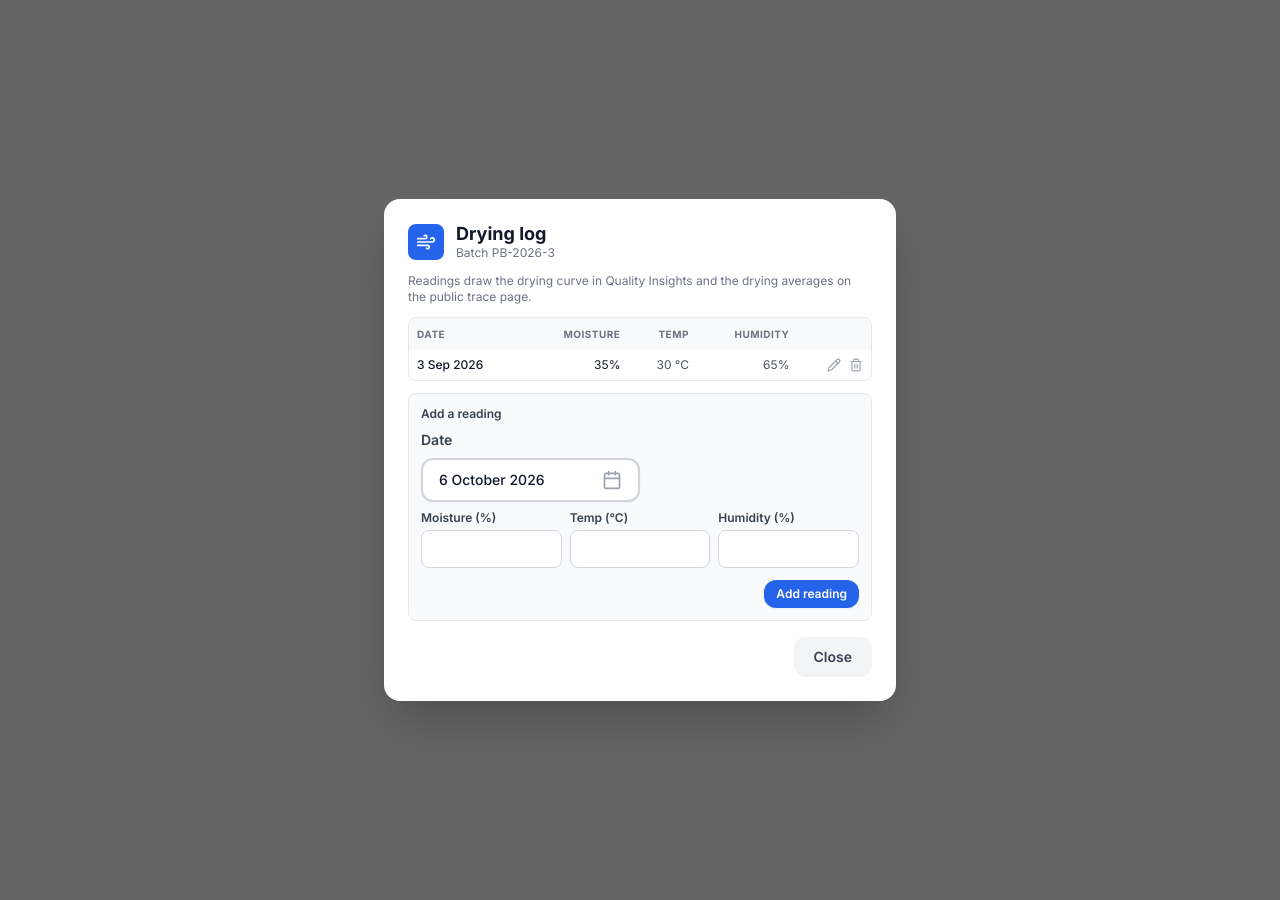
Scenario: DryingLogModal › an unchanged edit saves nothing
Click the button named "Edit the reading": point(834, 365) [823,354,845,376]
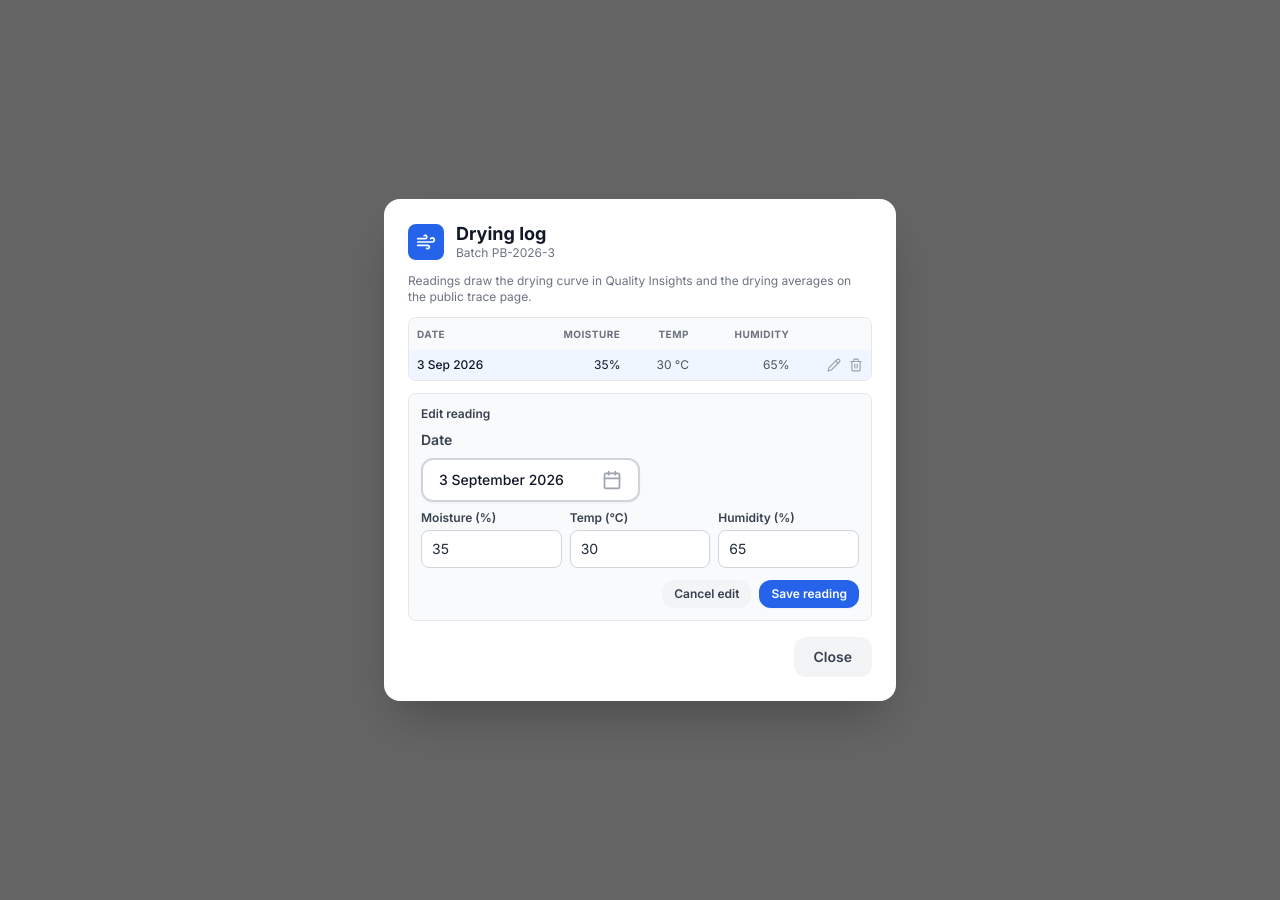
Click the button "Save reading": point(809, 594) [760,580,859,608]
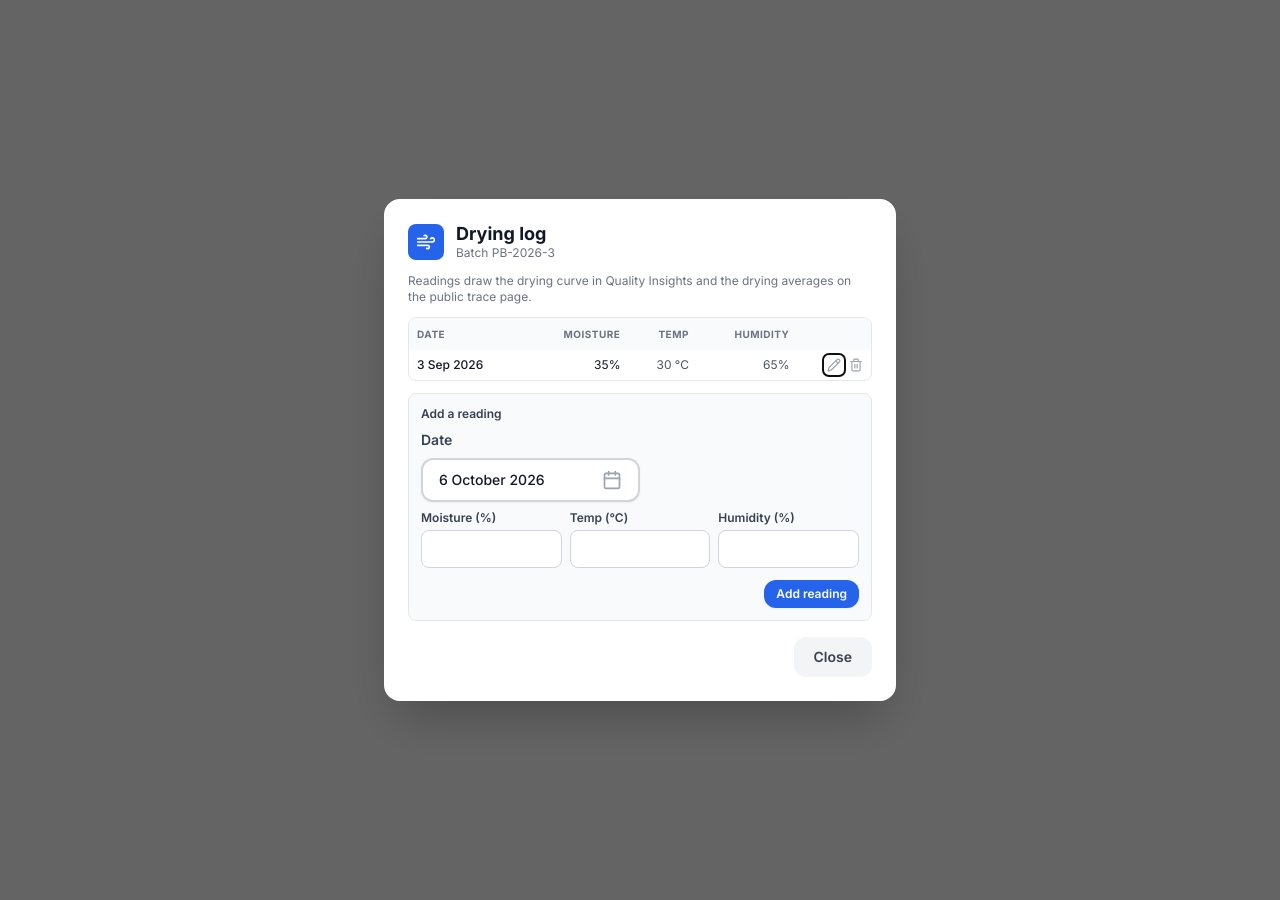
expect the button "Add reading" is shown: met, box [764,580,859,608]
